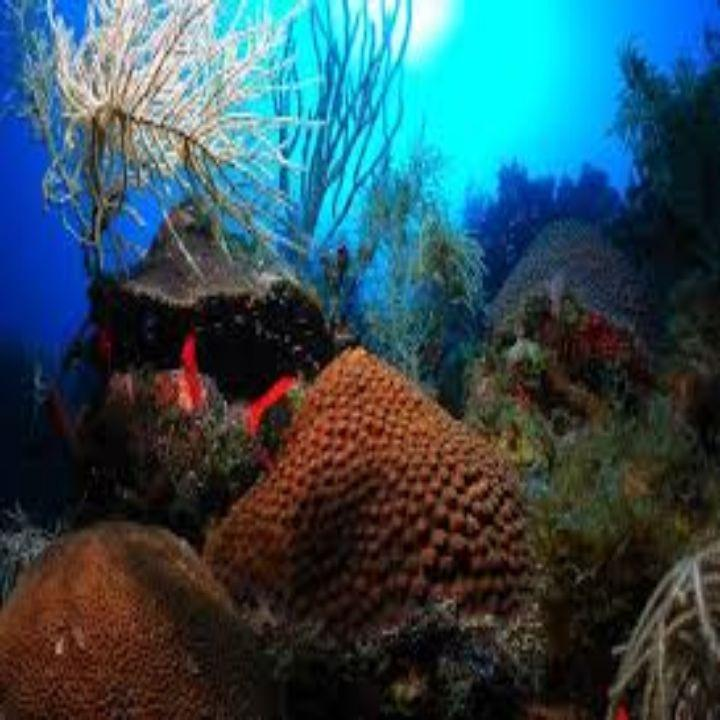Healthy Coral: (185, 353, 562, 670)
